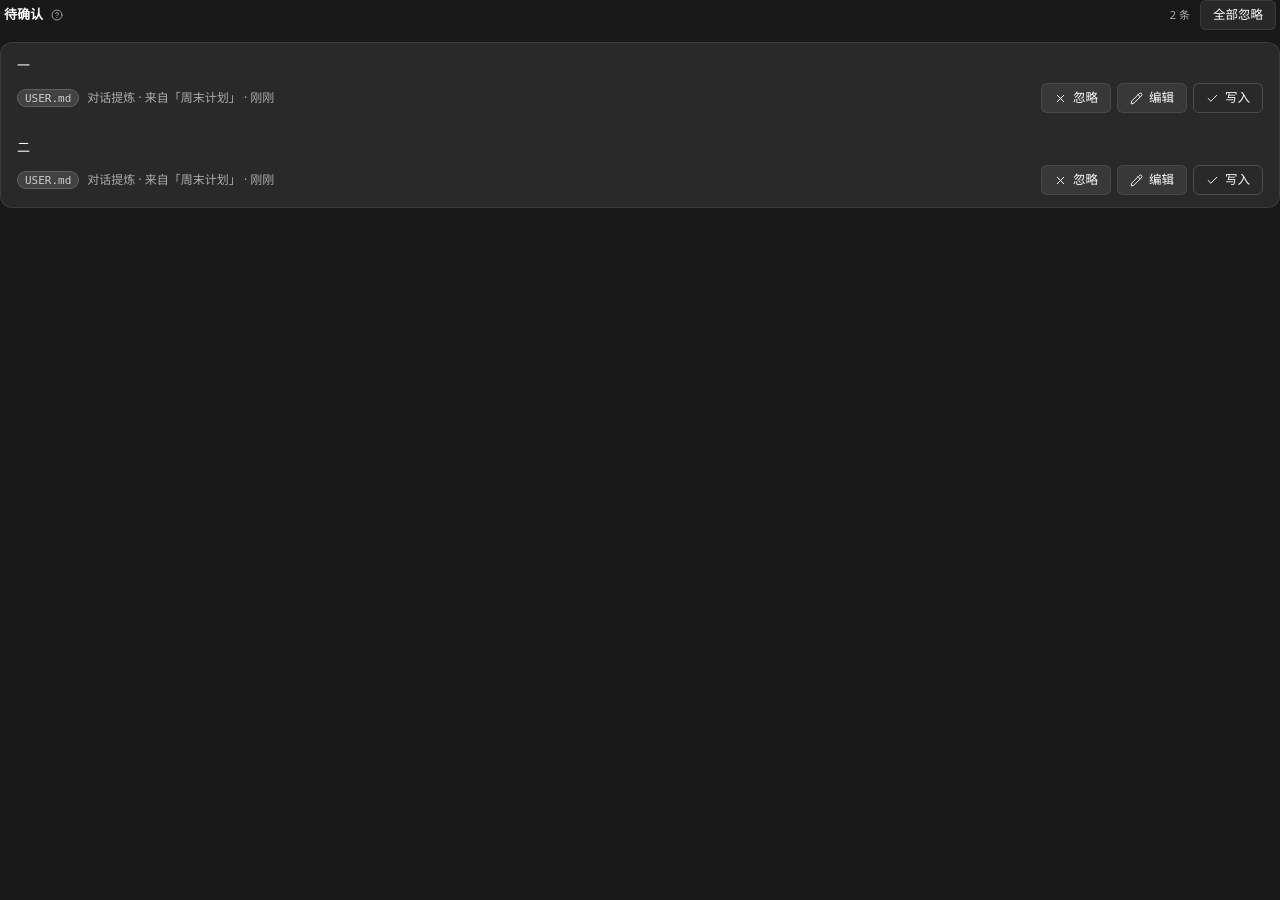
Scenario: MemoryReviewSection › dismisses all after confirmation
Expected: the text "一" is shown, [17,56,30,74]
Click the button "全部忽略": x=1238, y=15 [1200,0,1276,30]
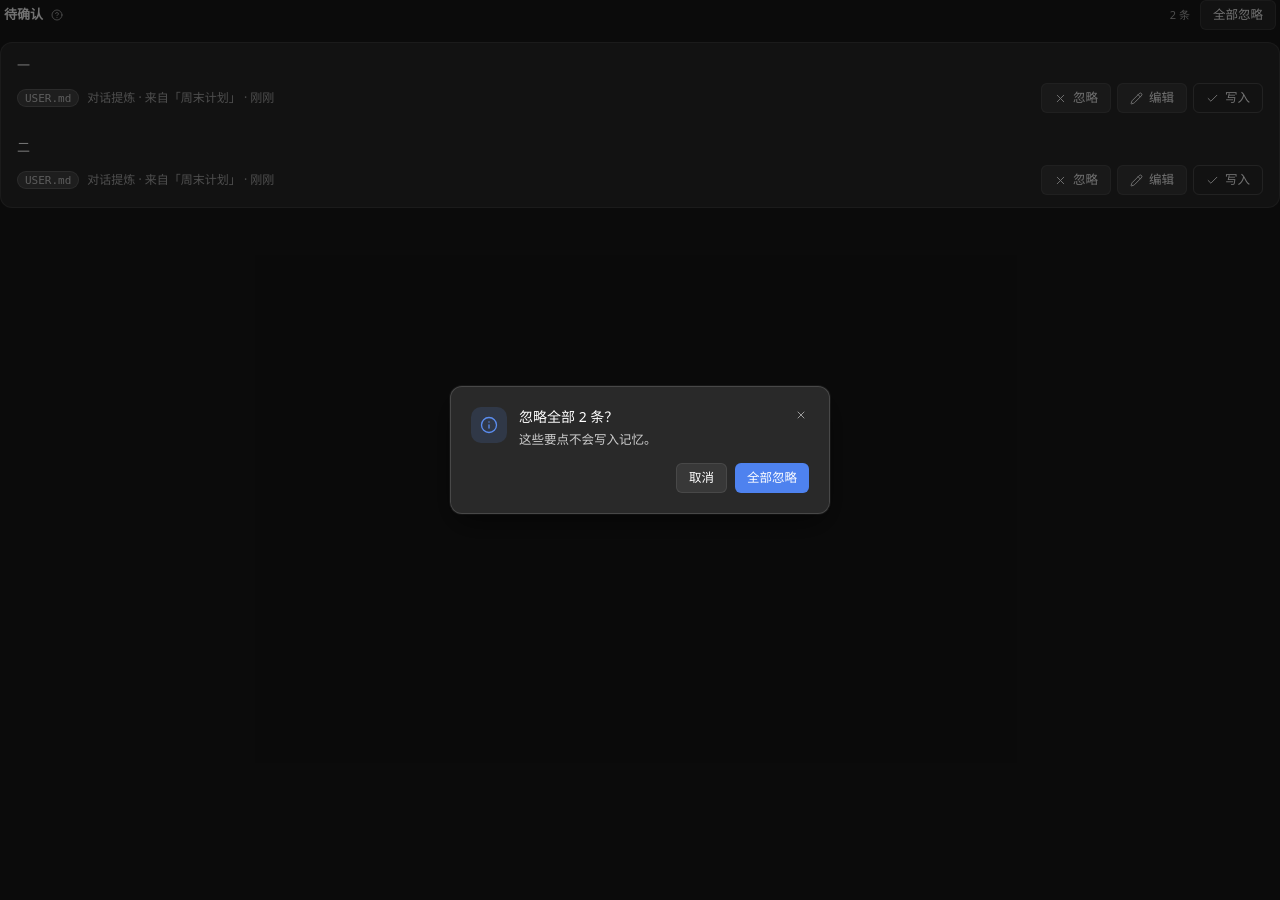
Click the button "全部忽略": x=772, y=478 [735,463,809,493]
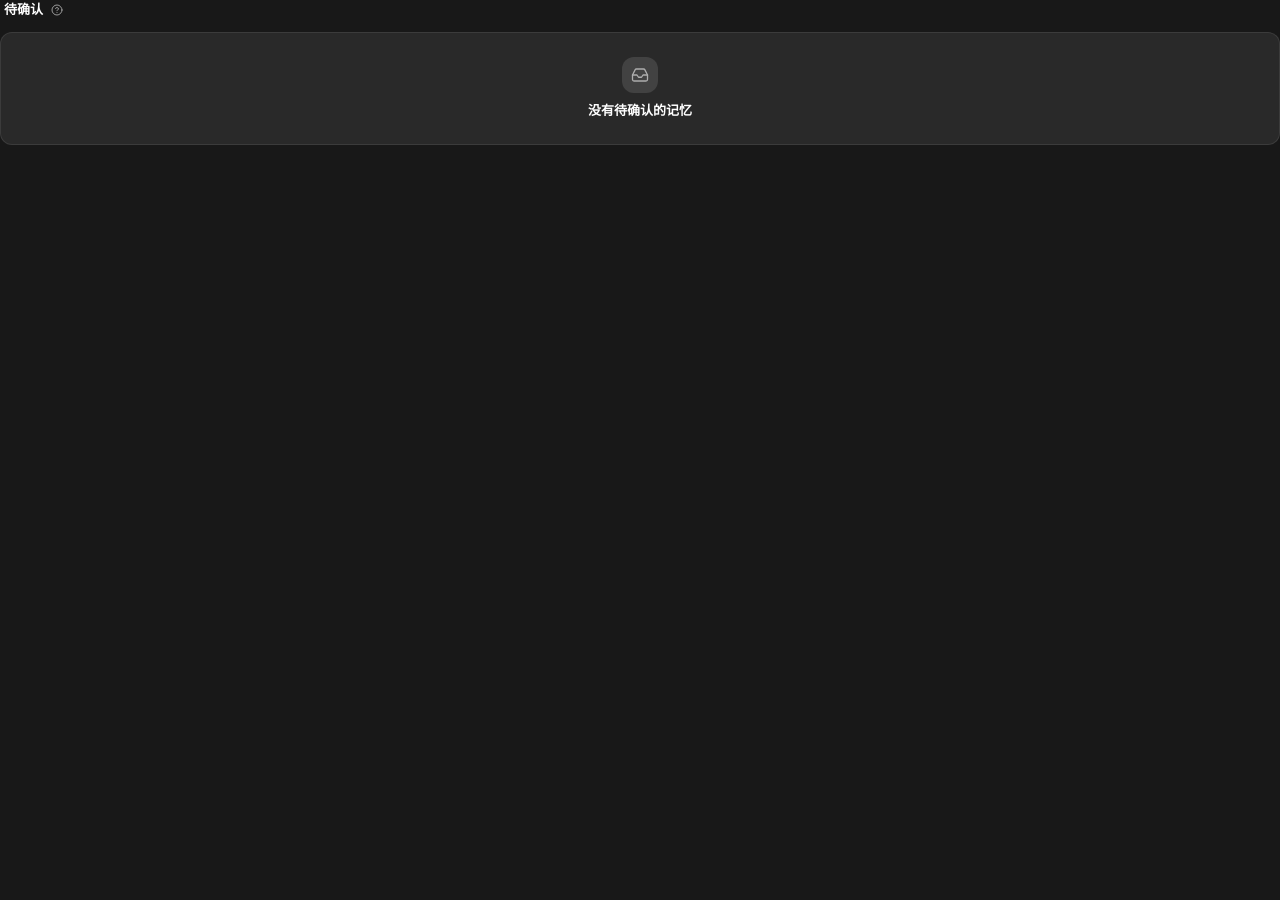
Expected: the text "没有待确认的记忆" is shown, [588,100,692,120]
